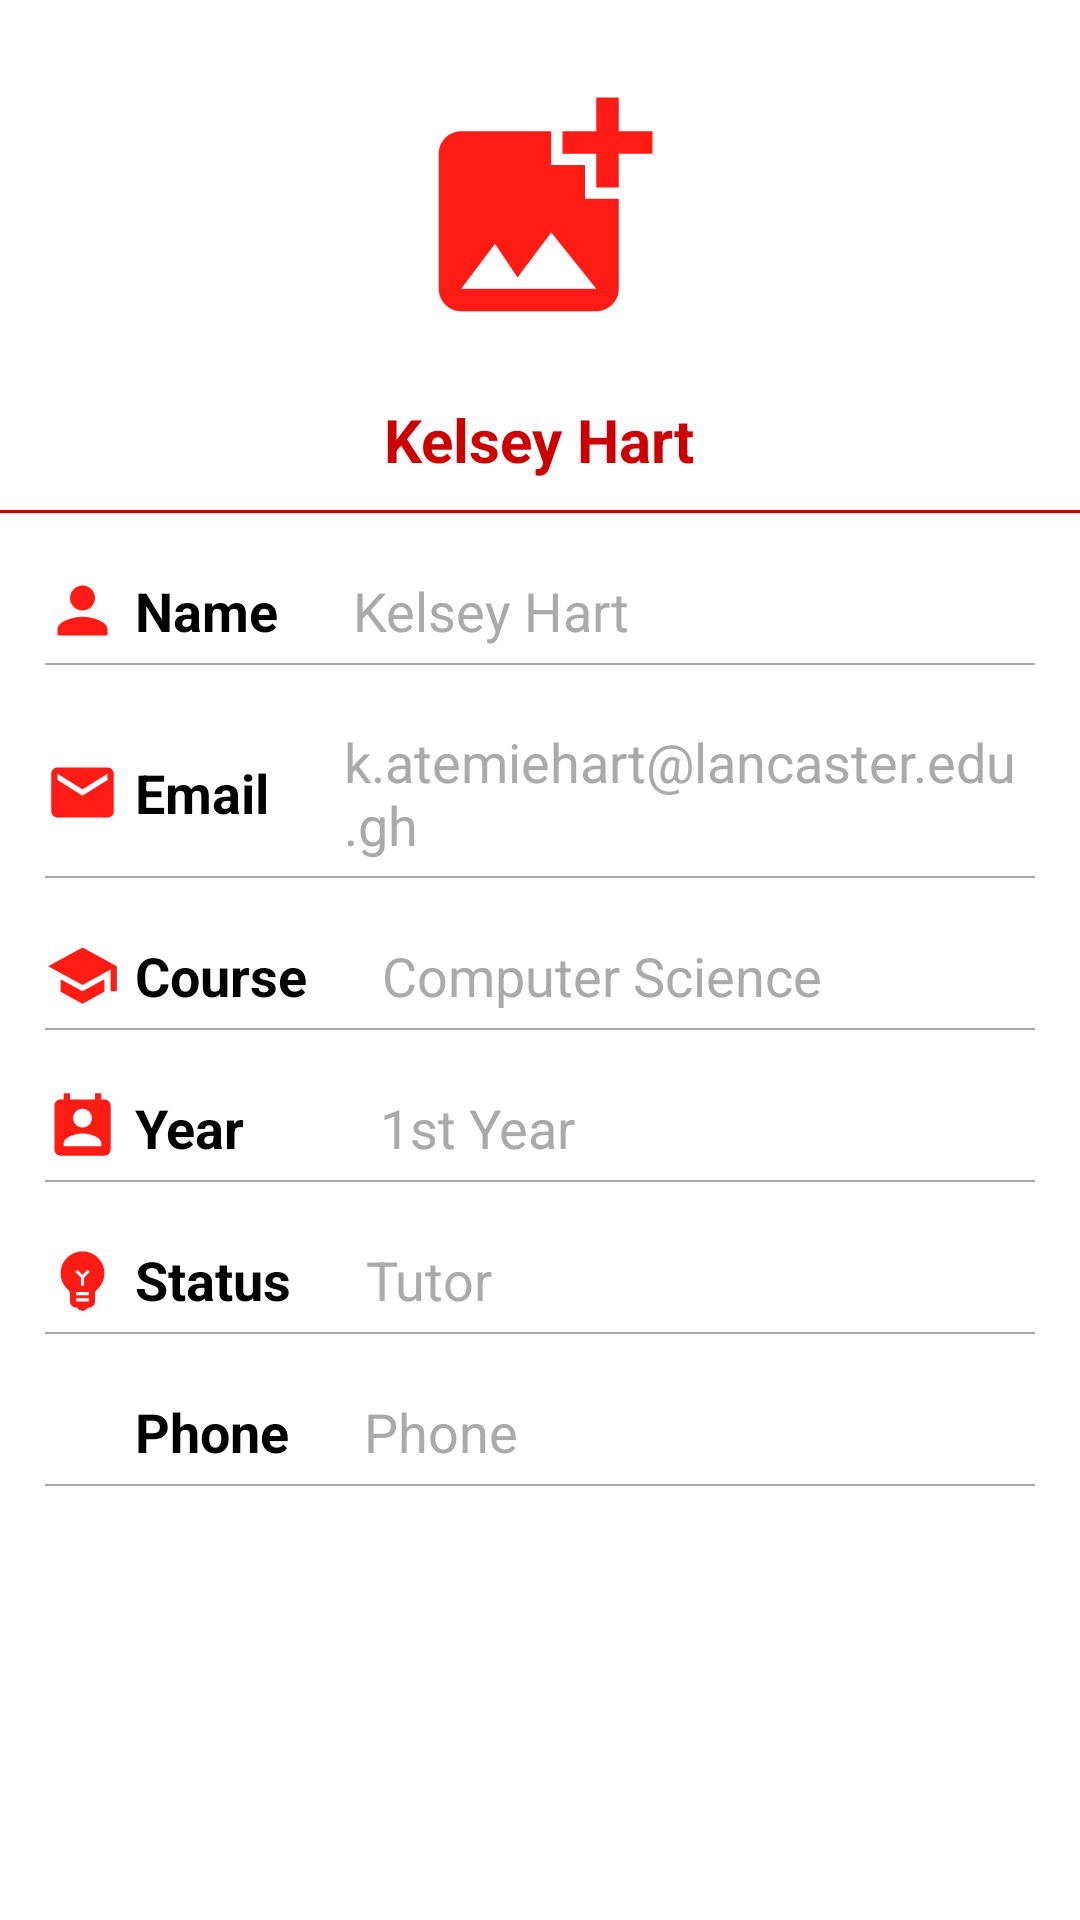

Screen size 1080 x 1920. Icon name, then its box in pixels as (x1, y1, x2, y2):
add photo: (438, 97, 653, 312)
person: (57, 585, 108, 636)
